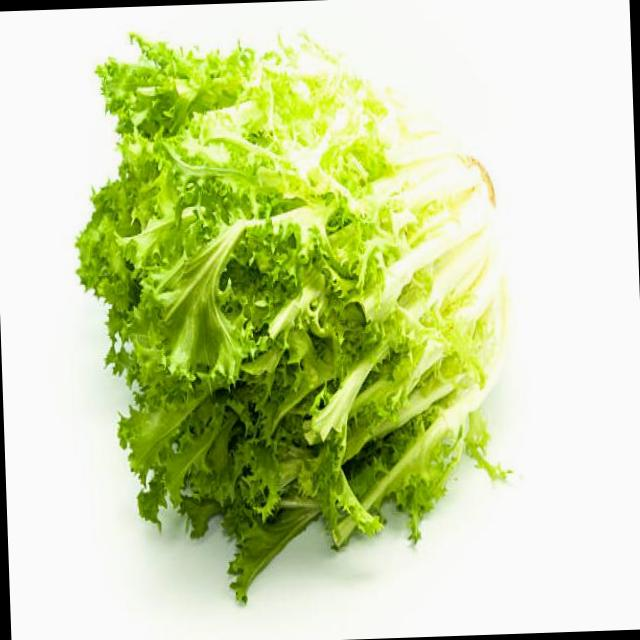Lettuce-Ready-to-Harvest: (77, 39, 503, 600)
